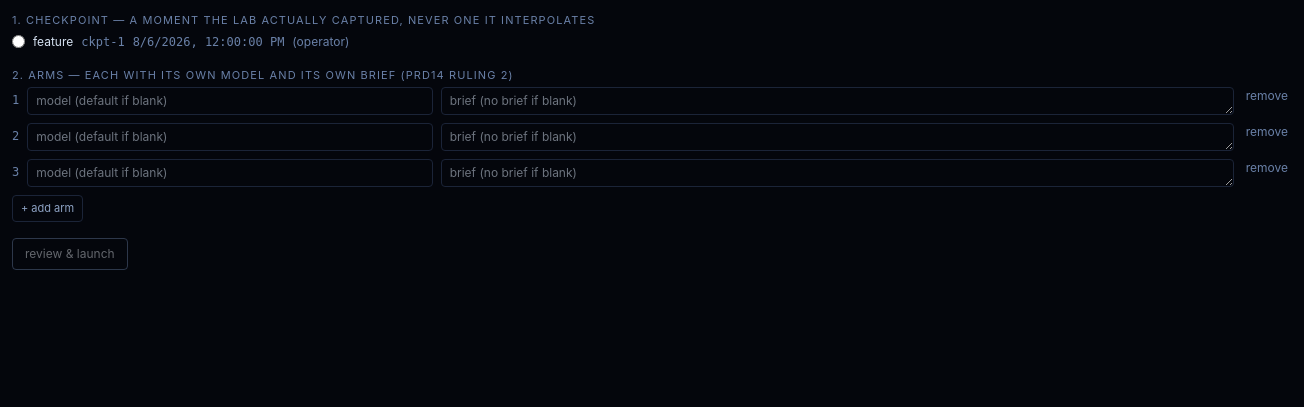
Test: LaunchPanel › reviewing fetches the estimate and shows its basis before any write happens
The image size is (1304, 407).
Click the radio button labelled "feature ckpt-1 8/6/2026, 12:00:00 PM (operator)": (18, 42) [12,35,25,48]
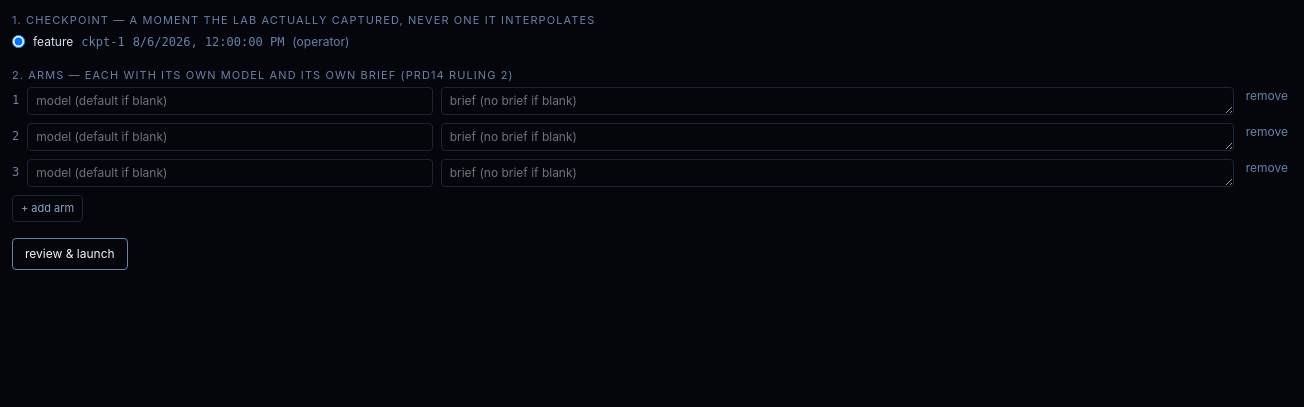
Click the button with test id "launch-review": (70, 254) [12,238,128,270]
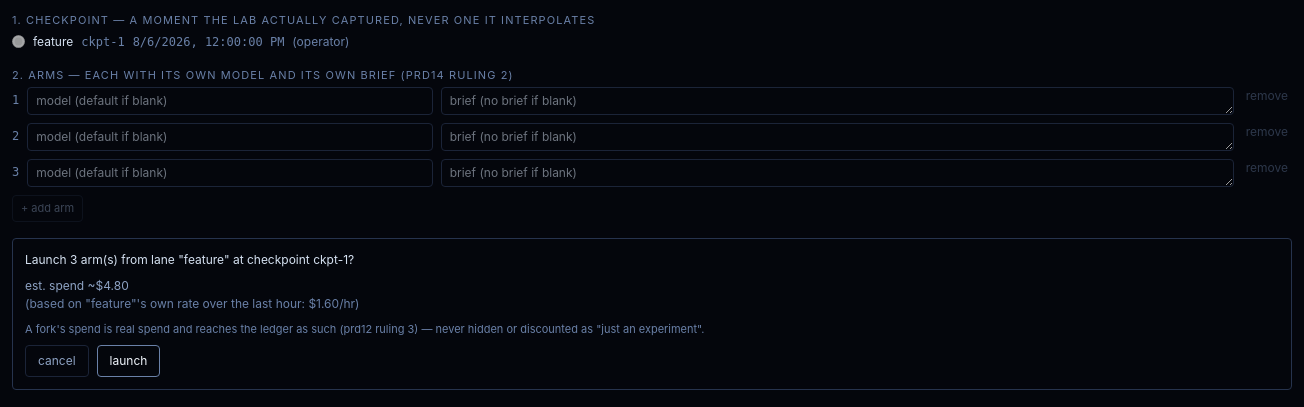
expect the element with test id "launch-confirm-dialog" is shown: met, box [12,238,1292,390]
expect the element with test id "launch-estimate-amount" shows "$4.80": met, box [96,278,129,292]
expect the element with test id "launch-estimate-amount" shows "$1.60/hr": met, box [25,278,360,310]
